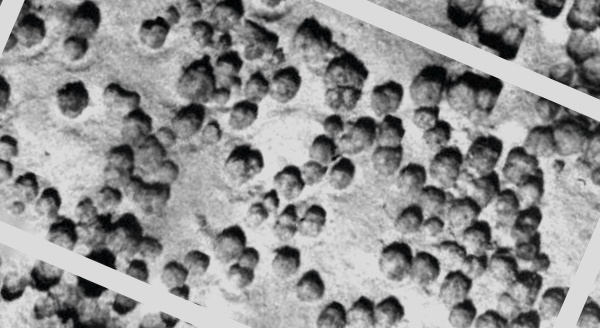halobolite: (325, 53, 372, 103), (295, 20, 339, 66), (450, 75, 492, 112), (13, 10, 49, 53), (140, 10, 173, 53), (141, 234, 173, 278), (409, 100, 444, 140), (156, 184, 187, 229), (182, 15, 218, 53), (115, 124, 148, 165), (270, 64, 303, 104), (226, 142, 262, 178), (53, 78, 87, 115), (126, 185, 159, 223), (219, 241, 250, 281), (502, 152, 535, 189), (411, 185, 439, 227), (395, 34, 425, 73), (298, 159, 331, 194), (556, 123, 588, 159), (212, 1, 242, 39), (108, 83, 138, 121), (200, 105, 233, 139), (306, 235, 339, 269), (96, 188, 123, 229), (453, 154, 489, 184), (250, 233, 282, 266), (61, 26, 91, 61), (328, 155, 358, 190), (105, 142, 134, 178), (8, 166, 35, 204), (430, 171, 462, 203), (82, 255, 112, 289), (381, 247, 410, 282), (272, 165, 302, 198), (171, 112, 200, 146), (442, 271, 471, 305), (433, 205, 463, 237), (21, 200, 49, 234), (304, 131, 332, 165), (231, 98, 257, 134), (320, 111, 348, 144), (74, 302, 112, 326), (79, 213, 108, 244), (244, 193, 268, 230), (511, 205, 535, 242), (51, 214, 80, 244), (316, 298, 345, 328), (372, 142, 401, 172), (29, 259, 61, 286), (276, 204, 300, 240), (517, 125, 544, 157), (70, 1, 101, 28), (411, 253, 437, 285), (286, 266, 319, 291), (346, 121, 370, 155), (492, 251, 516, 285), (508, 276, 537, 304), (446, 300, 475, 328), (298, 205, 326, 233), (375, 83, 406, 108), (161, 151, 187, 180), (215, 51, 241, 80), (185, 247, 208, 279), (348, 292, 378, 316), (152, 125, 174, 156), (111, 166, 141, 188), (392, 196, 414, 226), (1, 269, 25, 296), (475, 307, 505, 328), (507, 307, 537, 328), (172, 67, 193, 96), (287, 247, 313, 268), (414, 65, 435, 91), (544, 292, 568, 314), (518, 240, 543, 261), (188, 61, 212, 82), (379, 298, 403, 319), (293, 190, 311, 212), (141, 154, 160, 173), (432, 48, 450, 68)
